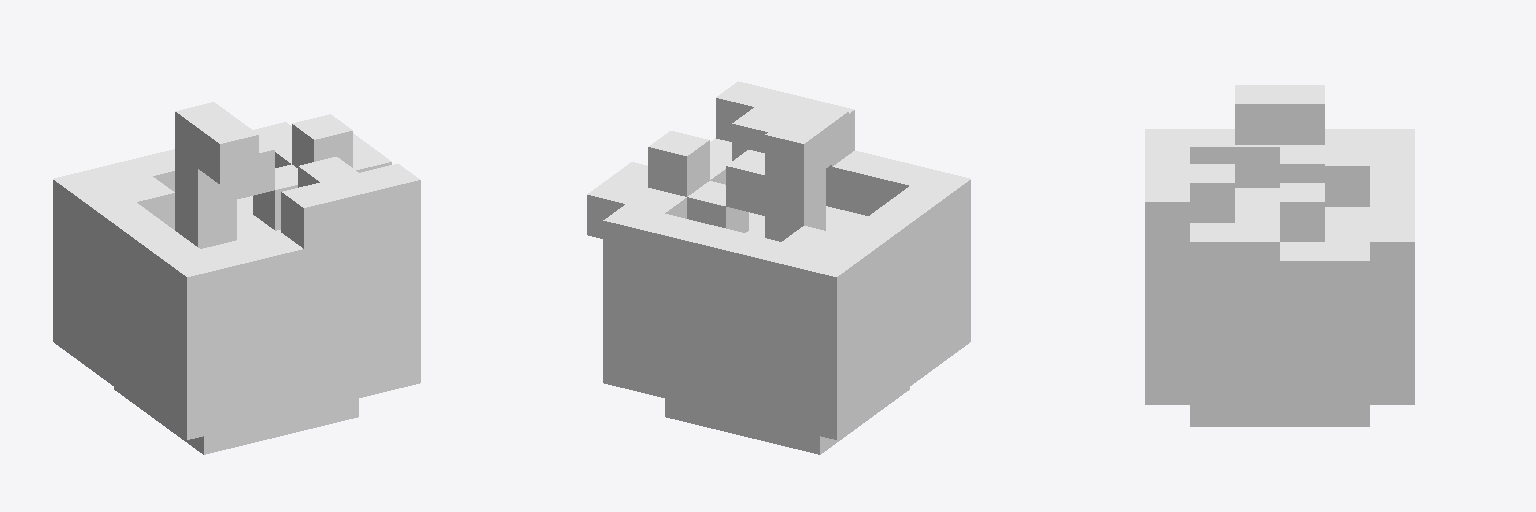
Rendered from MandrakeRootHalf.obj.
3 views of the same model, side by side, from view 1: azimuth 30°, elevation 25°; view 2: azimuth 150°, elevation 25°; view 3: azimuth 270°, elevation 25° (orthographic).
Parts seen in each view (by area): view 1: object 1; view 2: object 1; view 3: object 1.
Boxes of the visible parts, box(x1,y1,x2,y2) form: object 1: box(53, 102, 420, 454); object 1: box(587, 81, 970, 454); object 1: box(1145, 85, 1414, 426).
Size of the model in its own units: 0.7 by 0.7 by 0.6.